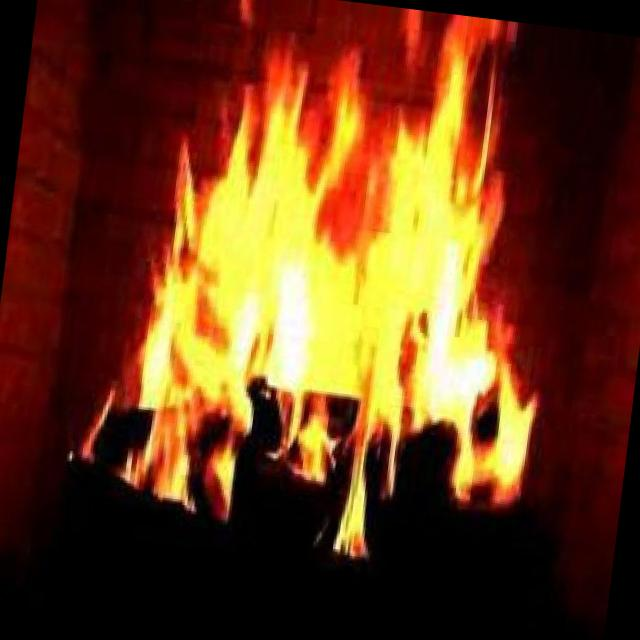Fire: (69, 0, 591, 591)
